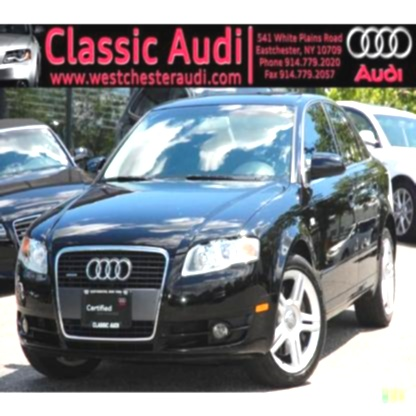Vehicle: (12, 92, 400, 392)
